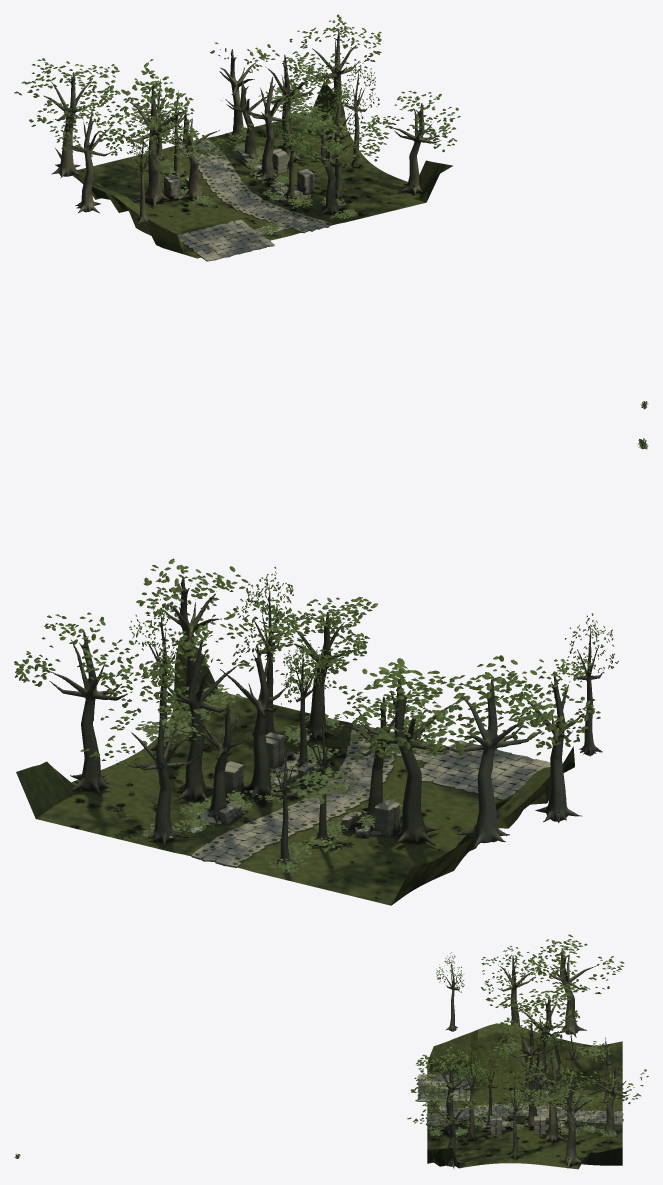
Rendered from forest-canopy.glb.
3 renders of one model, top to bottom at view 1: azimuth 30°, elevation 25°; view 2: azimuth 150°, elevation 25°; view 3: azimuth 270°, elevation 25°, orthographic. The views are drawn at different scales.
Visible parts, largest first — view 1: ForestCanopy_Ground, ForestCanopy_Wood, ForestCanopy_Foliage, ForestCanopy_Stone, PD11_Foliage_forest-canopy; view 2: ForestCanopy_Ground, ForestCanopy_Wood, ForestCanopy_Foliage, ForestCanopy_Stone, PD11_Foliage_forest-canopy; view 3: ForestCanopy_Ground, ForestCanopy_Foliage, ForestCanopy_Wood, ForestCanopy_Stone, PD11_Foliage_forest-canopy.
Part boxes in pixels (box(x1,y1,x2,y2)): ForestCanopy_Ground: box(55, 83, 452, 258); ForestCanopy_Wood: box(43, 28, 440, 224); ForestCanopy_Foliage: box(14, 14, 460, 175); ForestCanopy_Stone: box(164, 138, 332, 261); PD11_Foliage_forest-canopy: box(129, 86, 358, 237); ForestCanopy_Ground: box(16, 637, 574, 905); ForestCanopy_Wood: box(49, 576, 604, 865); ForestCanopy_Foliage: box(14, 558, 618, 766); ForestCanopy_Stone: box(191, 724, 550, 867); PD11_Foliage_forest-canopy: box(135, 684, 443, 874); ForestCanopy_Ground: box(427, 1023, 622, 1169); ForestCanopy_Foliage: box(407, 934, 648, 1129); ForestCanopy_Wood: box(427, 948, 634, 1168); ForestCanopy_Stone: box(417, 1074, 623, 1134); PD11_Foliage_forest-canopy: box(428, 1037, 619, 1137).
Size of what is drawn, in the model's own units: 54.87 by 22.32 by 101.
10 materials, 3 textured.
